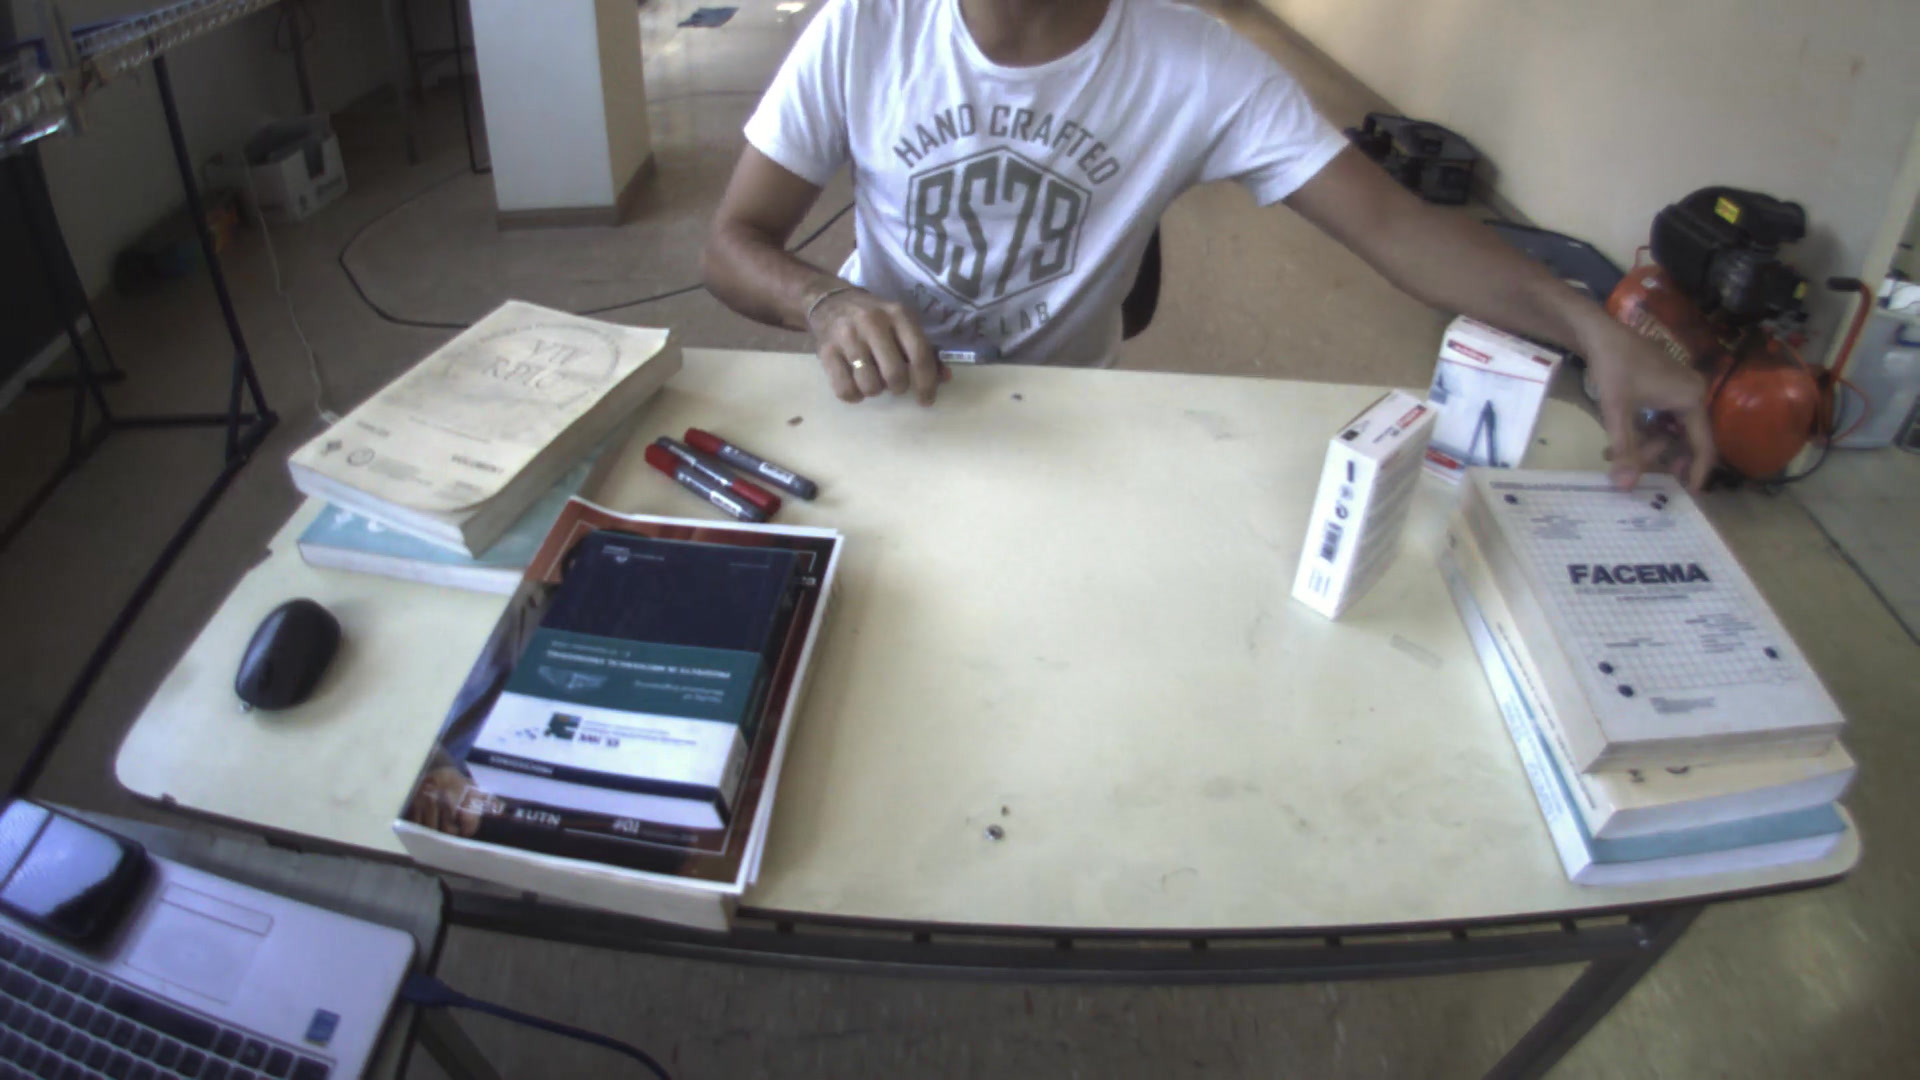hand: (1576, 324, 1717, 502), (796, 273, 952, 402)
